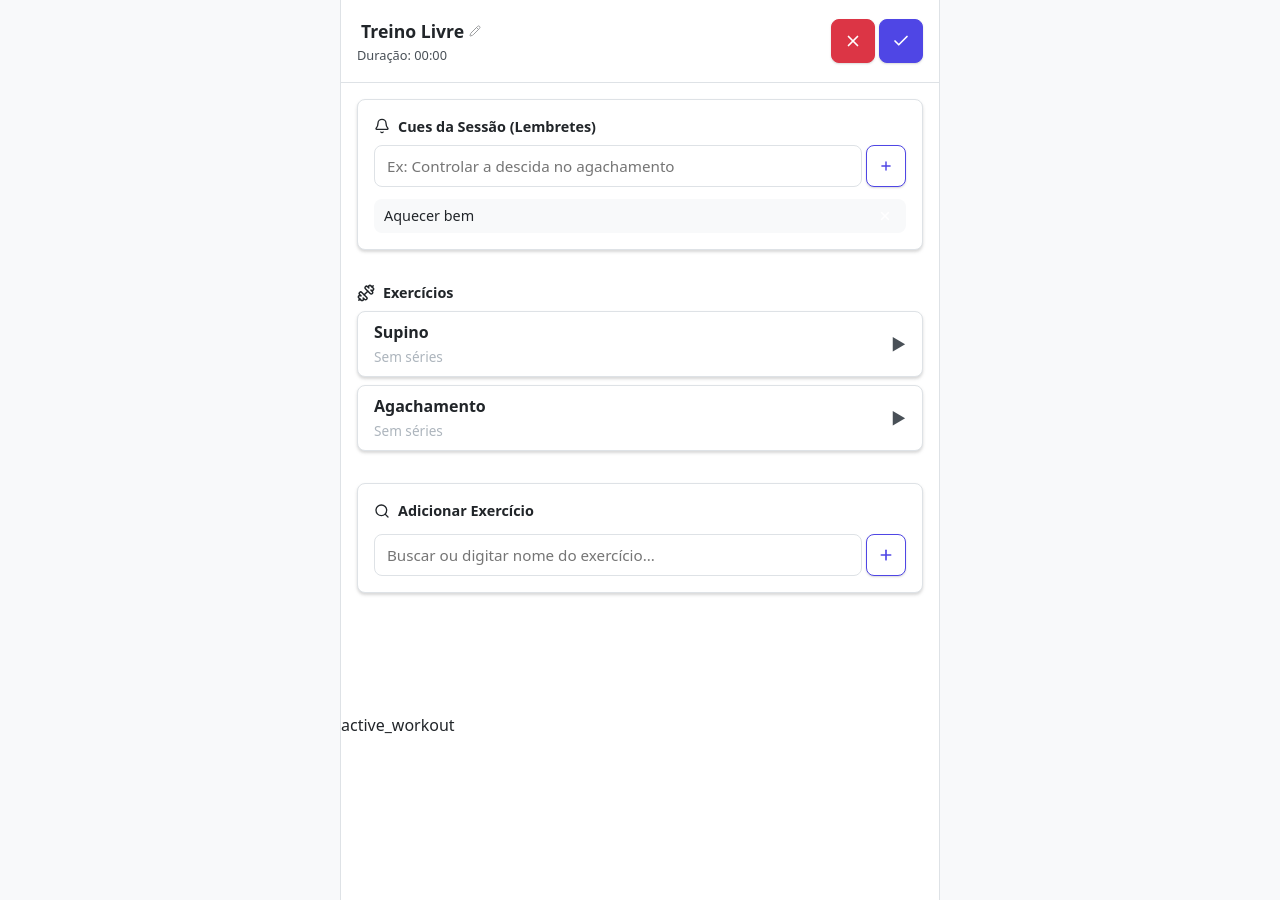
Test: ActiveWorkoutView — encerrar e cancelar › encerra o treino após confirmação e navega ao histórico
This screenshot has width=1280, height=900.
Click the button named "Encerrar e registrar treino" at x=901, y=41, box top-left (879, 19), bottom-right (923, 63)
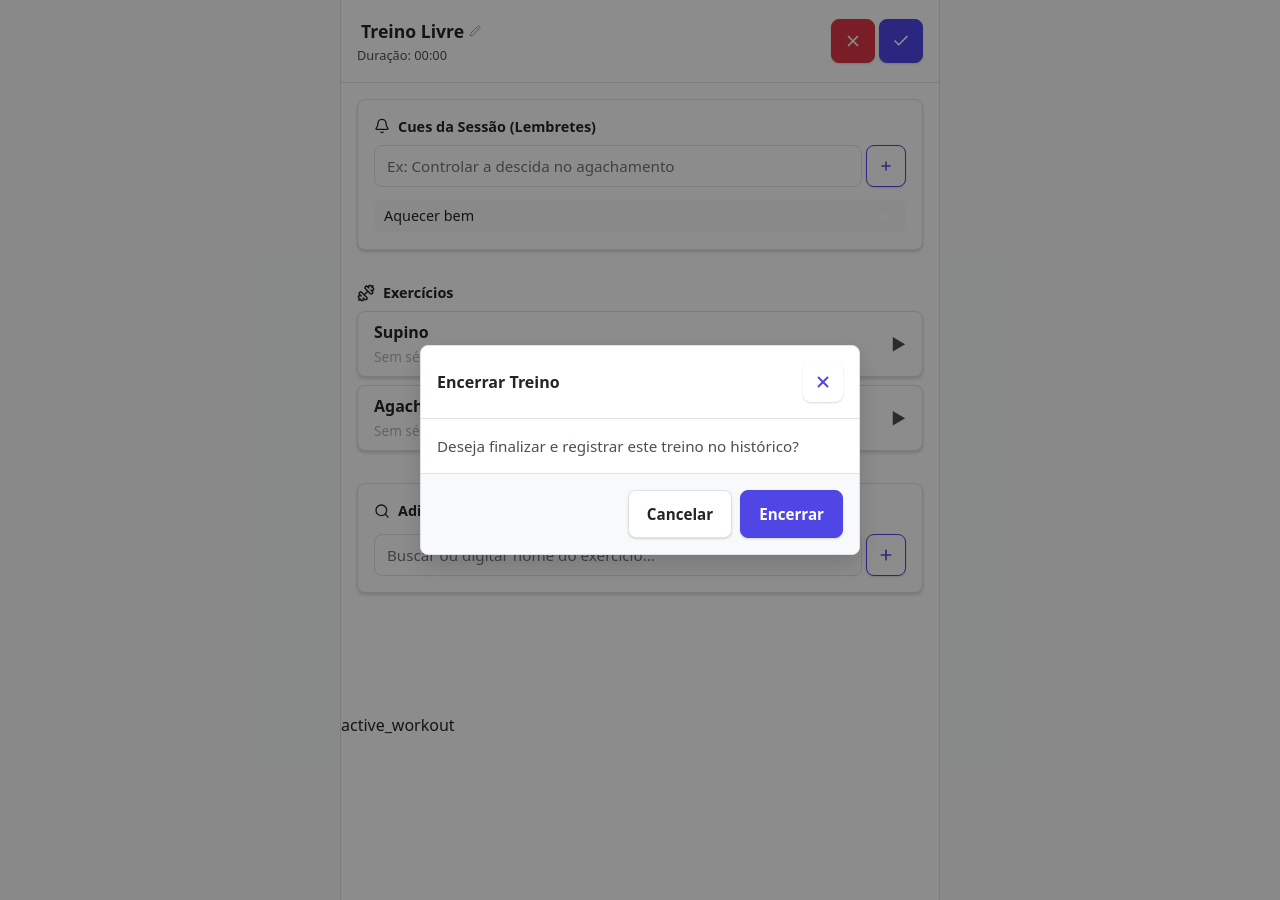
Result: the heading "Encerrar Treino" is shown at top-left (437, 370), bottom-right (560, 394)
Click the button "Encerrar" at x=792, y=514, box top-left (740, 490), bottom-right (843, 538)
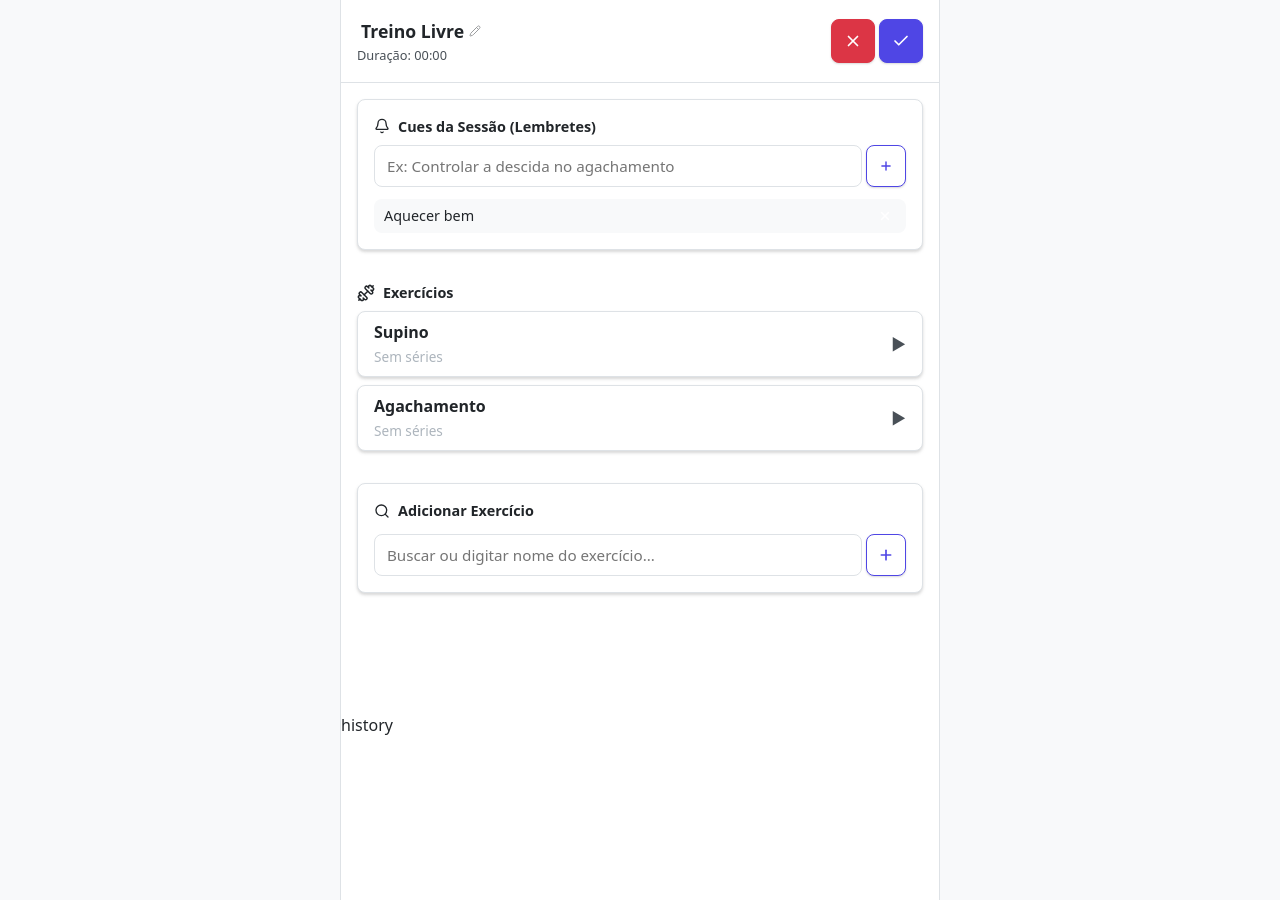
Result: the text with test id "view-atual" reads "history" at top-left (341, 714), bottom-right (393, 736)
